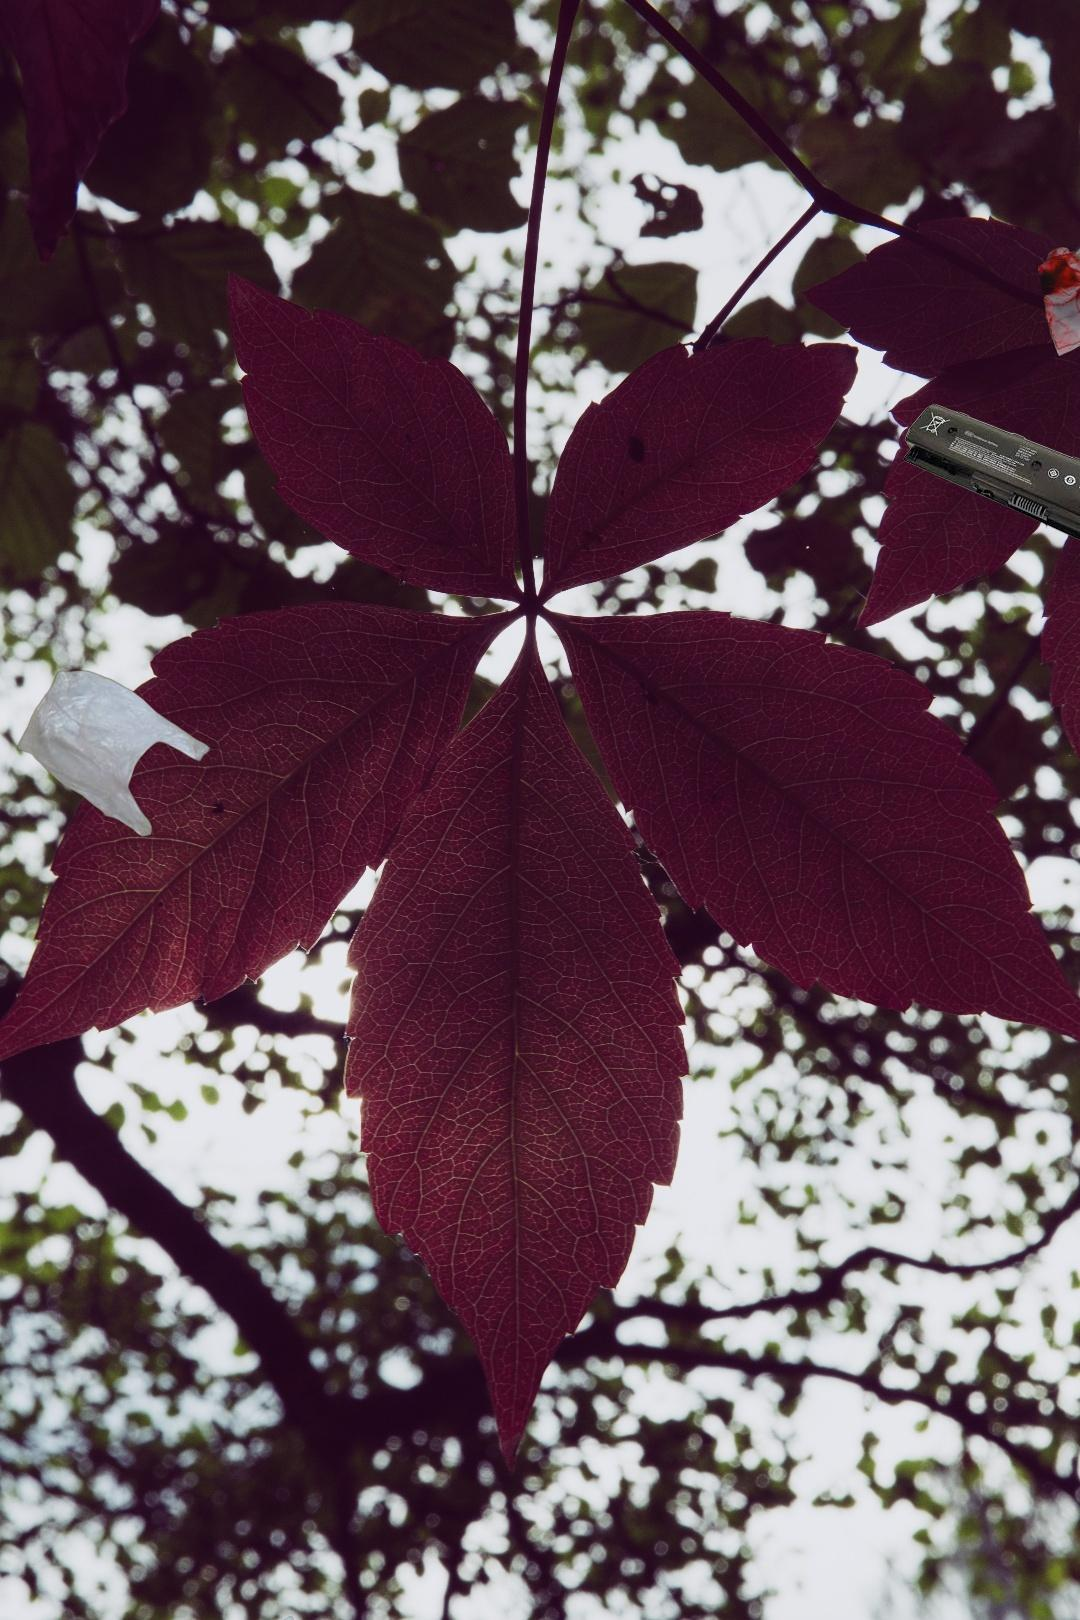battery: (902, 403, 1080, 579)
plastic-bag: (16, 668, 215, 865), (1035, 229, 1080, 436)
trash: (152, 1615, 351, 1620)
